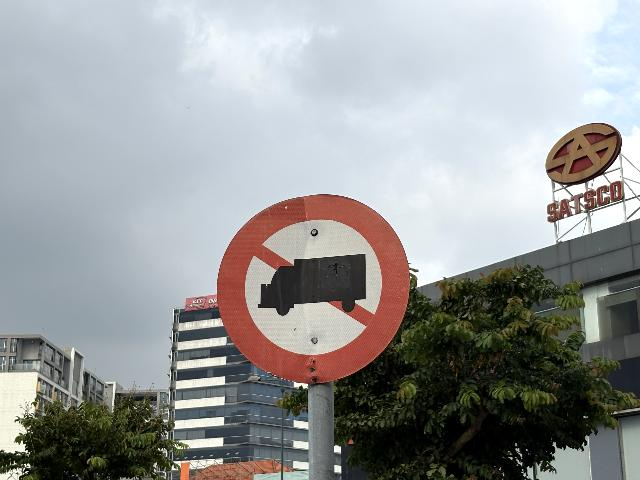cam-xe-tai: (217, 194, 411, 382)
